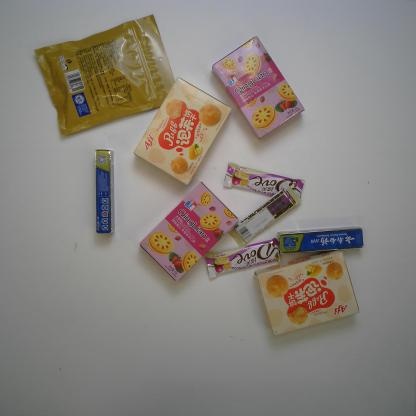Chocolate: (228, 184, 302, 250), (220, 158, 307, 206), (202, 236, 284, 282)
Dessert: (132, 72, 233, 190), (252, 243, 362, 340), (138, 182, 241, 284), (210, 34, 304, 142)
Dried Fruit: (32, 13, 180, 138)
Personal Hygiene: (274, 222, 368, 257), (92, 145, 118, 239)
